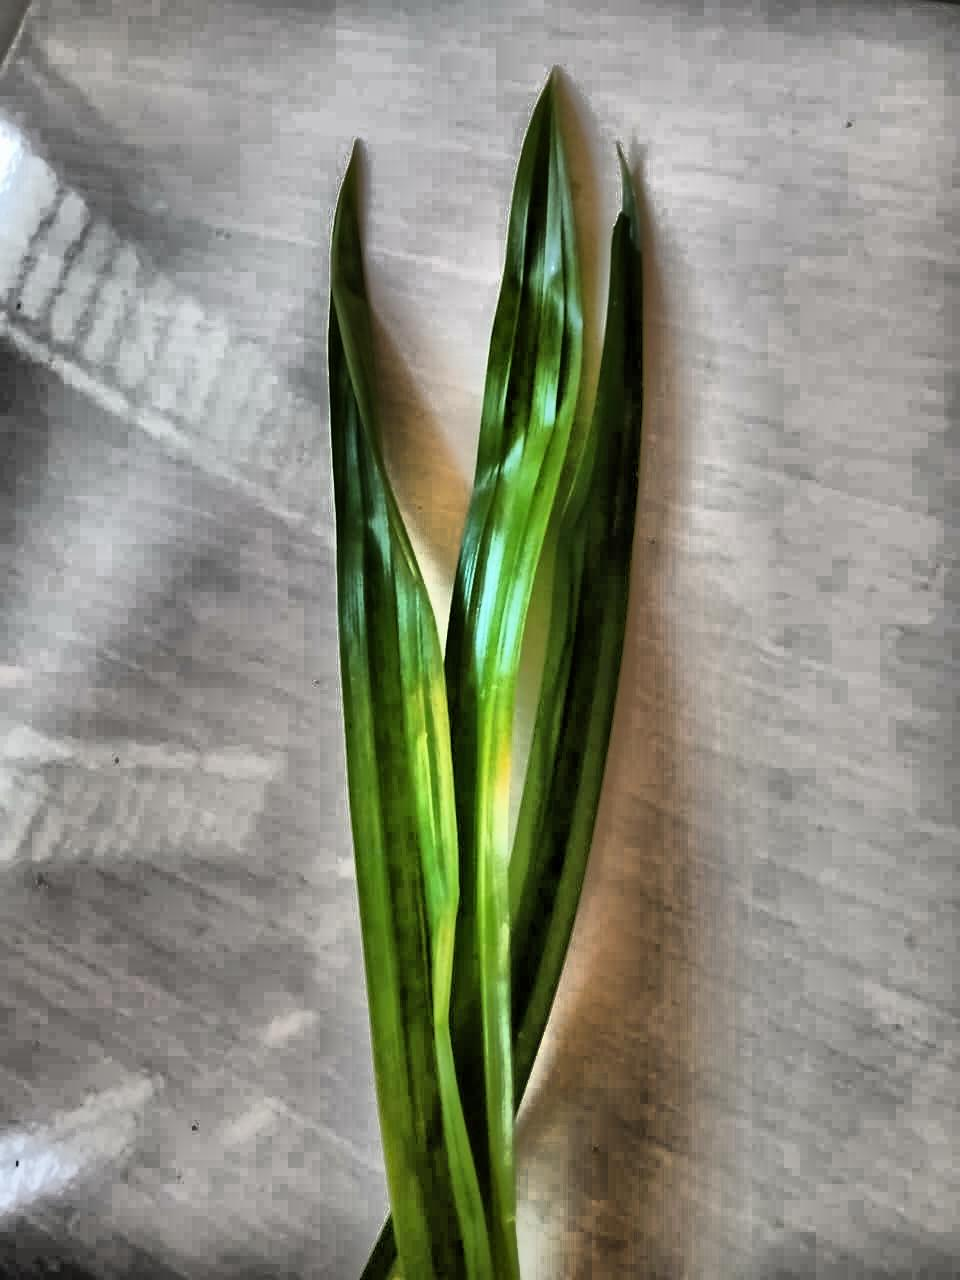daun pandan: (328, 76, 643, 1279)
